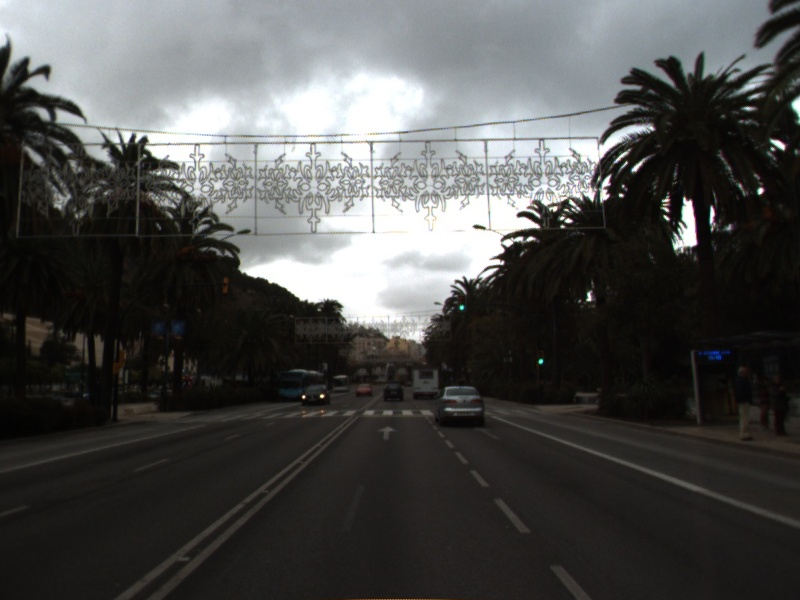STRAIGHT: (471, 425, 501, 441), (375, 423, 400, 442)
